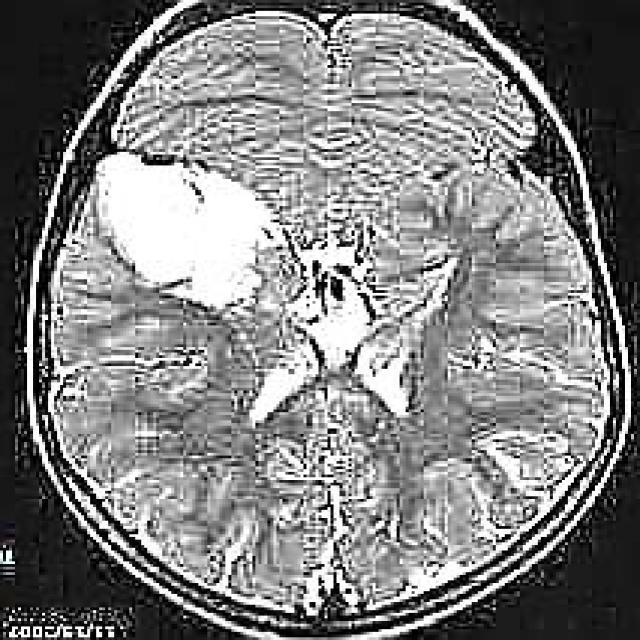tumor: (94, 155, 274, 309)
